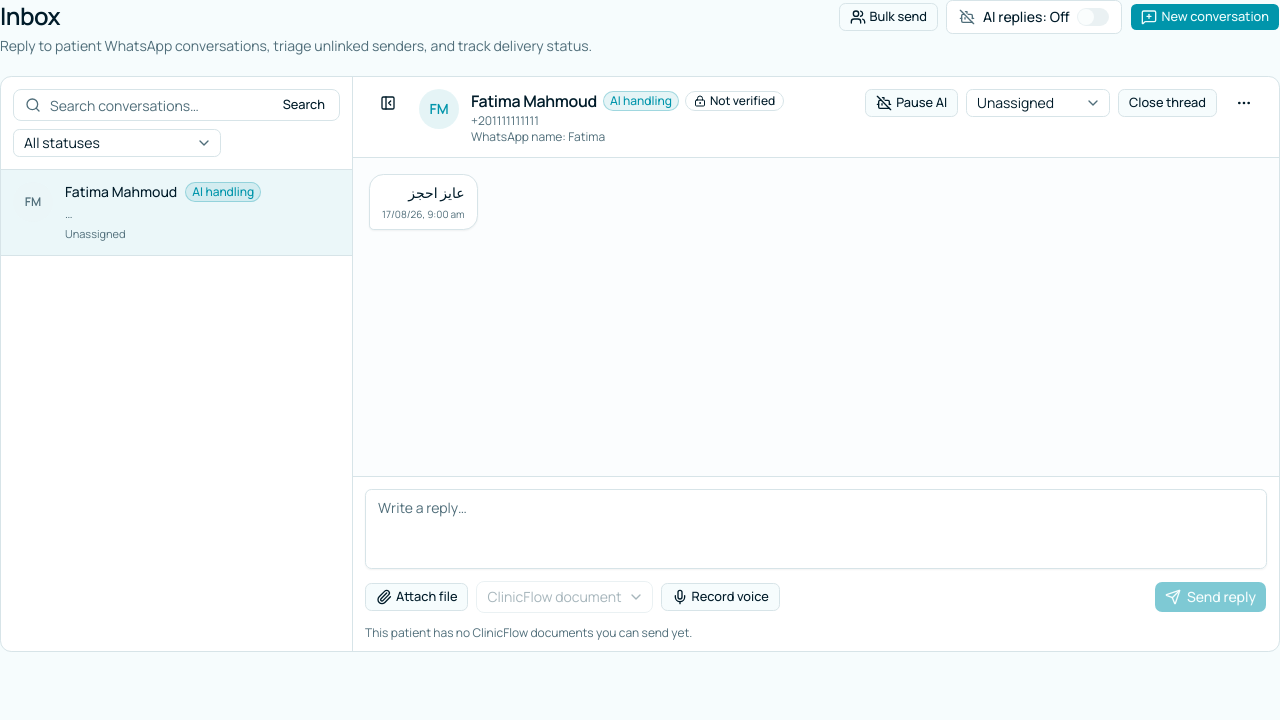
P12 · past appointments from inside the thread › offers the history for a conversation linked to a patient
The image size is (1280, 720).
Click the button with test id "conversation-more-actions" at (1244, 103), box [1225,89,1263,117]
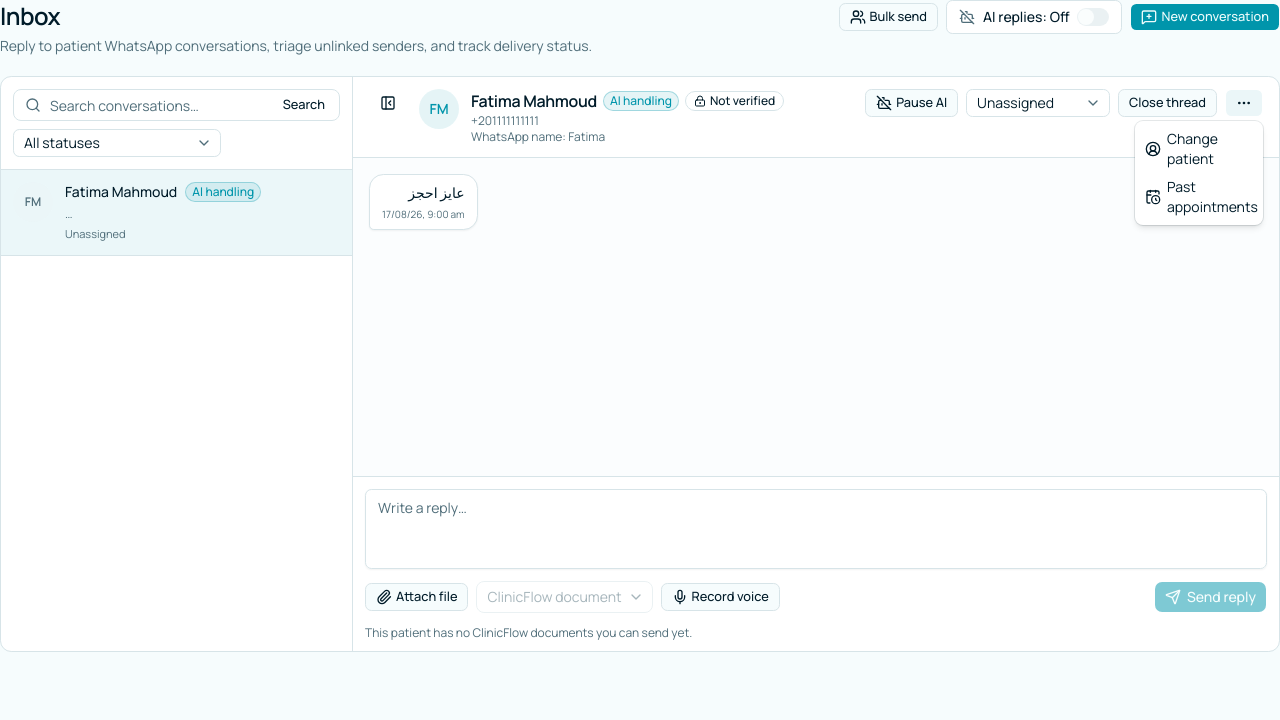
Click the menu item with test id "past-appointments-trigger" at (1199, 197), box [1139,173,1259,221]
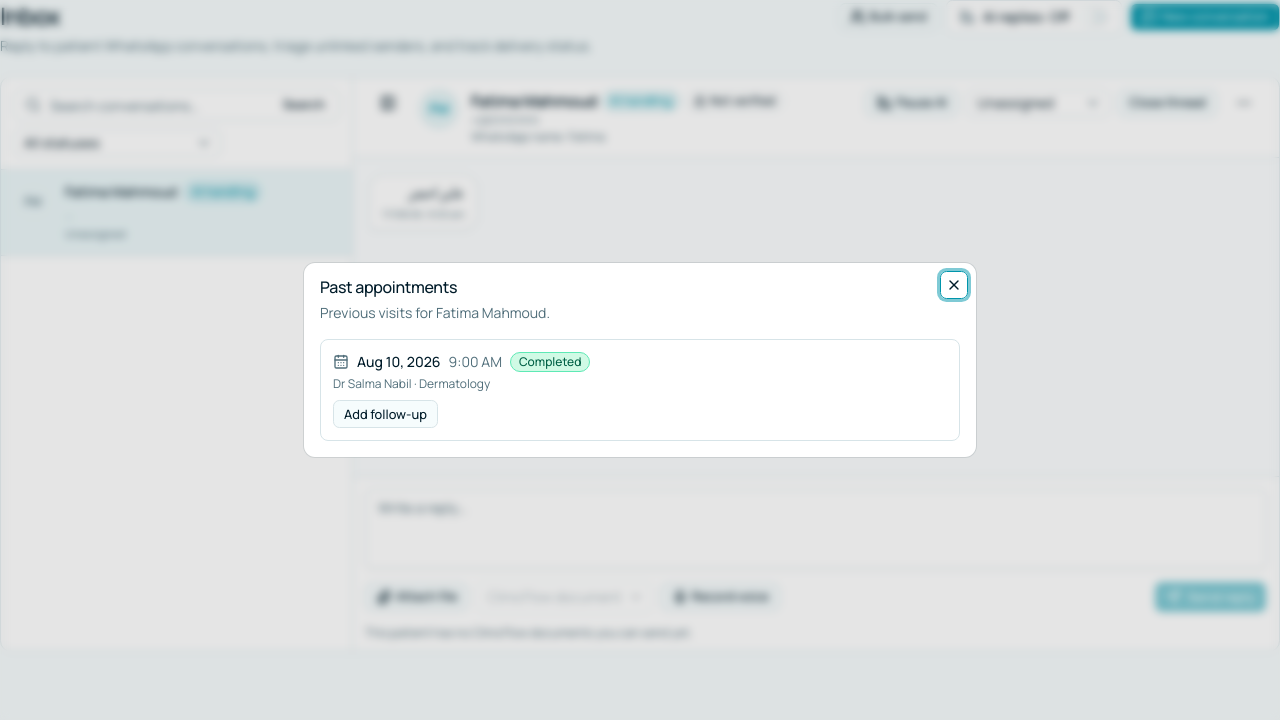
Now the dialog with test id "past-appointments-panel" is shown, box [304,263,976,457]
